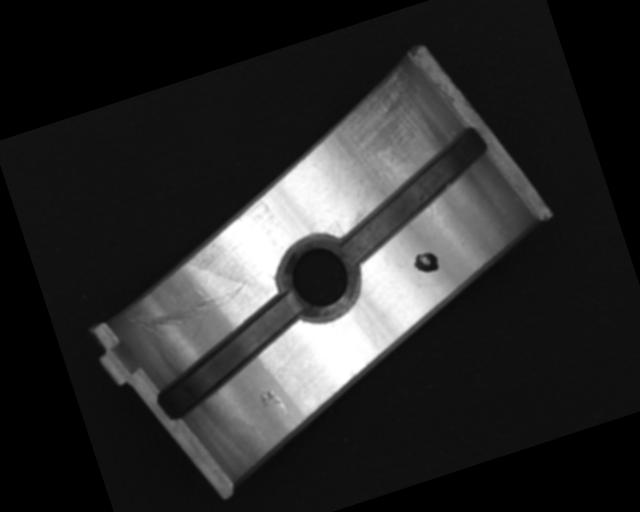blot: (409, 247, 442, 277)
bruise: (256, 385, 291, 423)
gap: (318, 122, 508, 267), (137, 289, 324, 423)
hole: (263, 222, 372, 333)
nick: (123, 274, 263, 360)
scratch: (307, 57, 454, 227)
